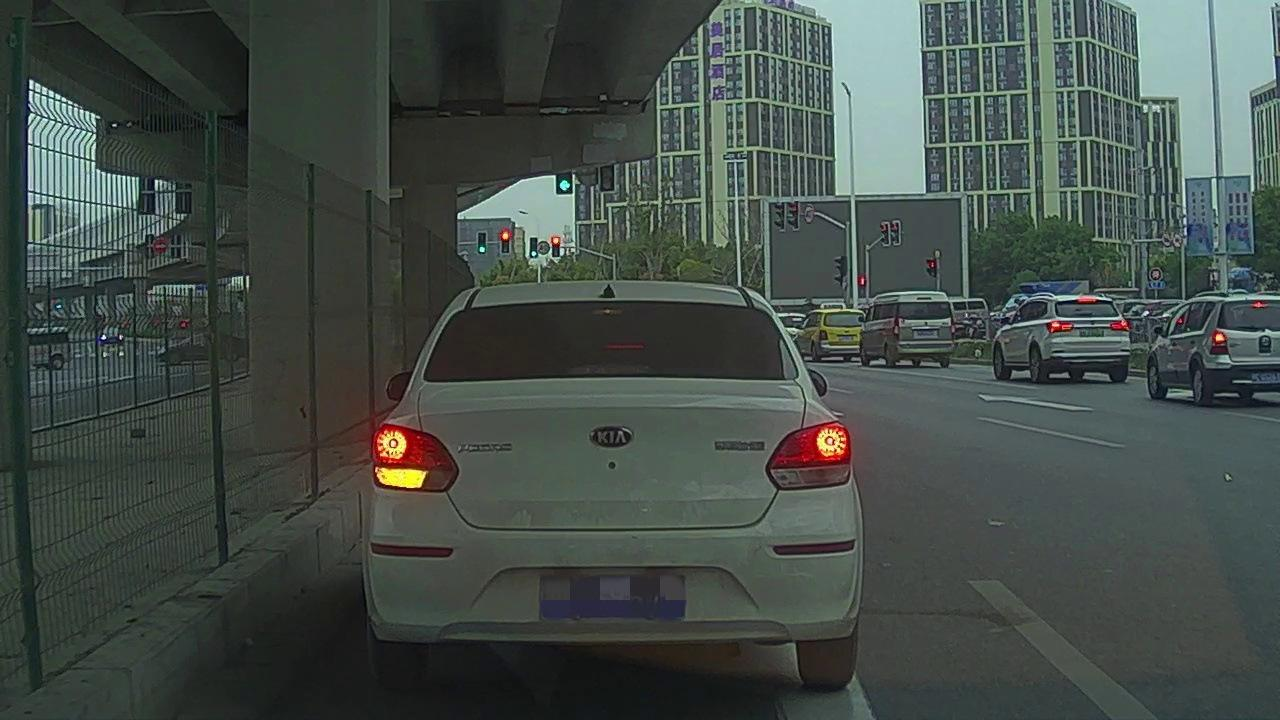traffic_light: (599, 166, 614, 193), (556, 172, 572, 193), (479, 232, 487, 253), (501, 231, 509, 251), (552, 237, 560, 257), (530, 238, 536, 258)
